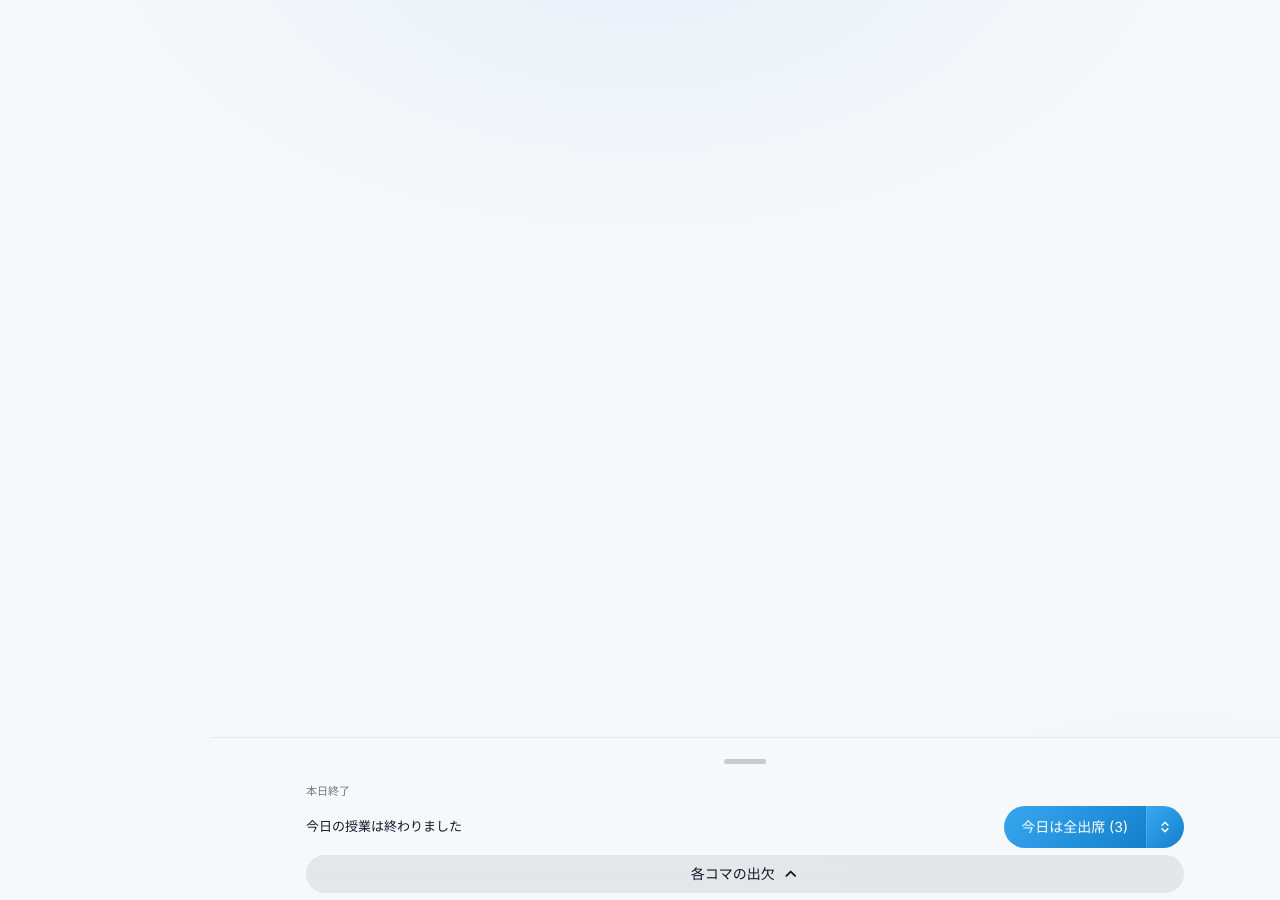
Test: MainAttendanceCTA bulk status menu › marks all ABSENT and closes the menu when the absent item is clicked
The width and height of the screenshot is (1280, 900).
Click the button named "一括記録のステータスを選ぶ".
click(1165, 826)  # box [1146,806,1184,848]
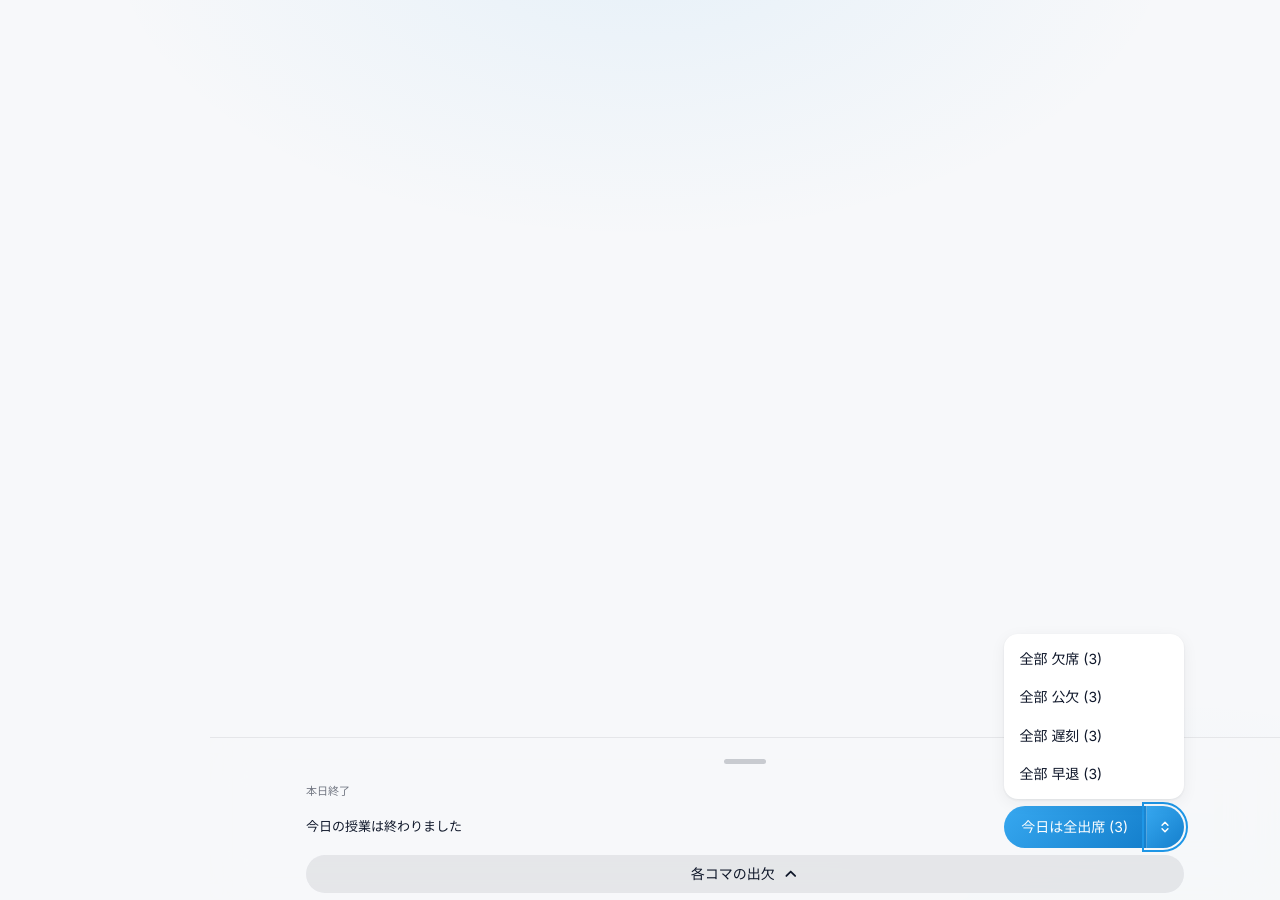
Click the menu item "全部 欠席 (3)".
click(1094, 659)  # box [1009,639,1179,678]
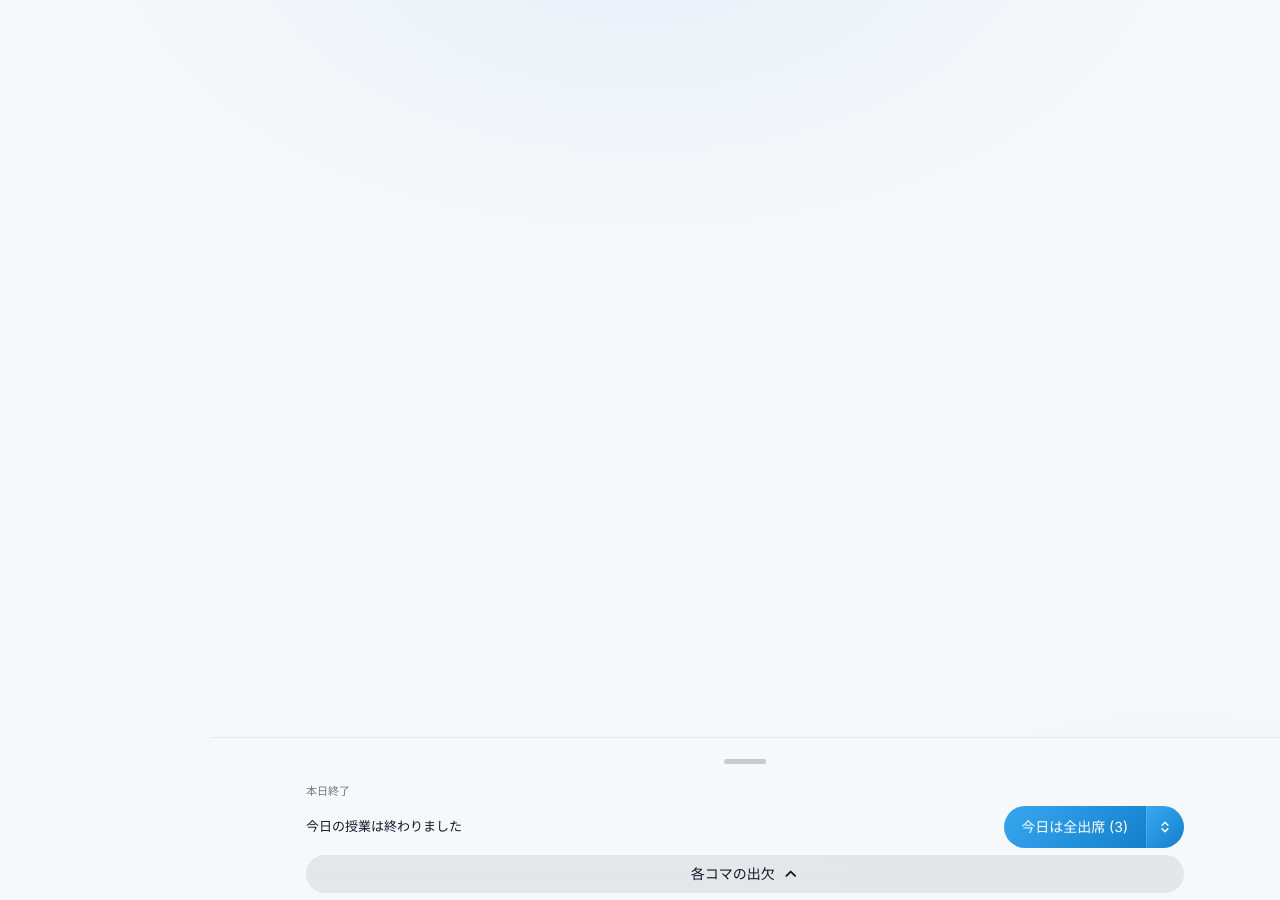
Expected: the menu is gone
